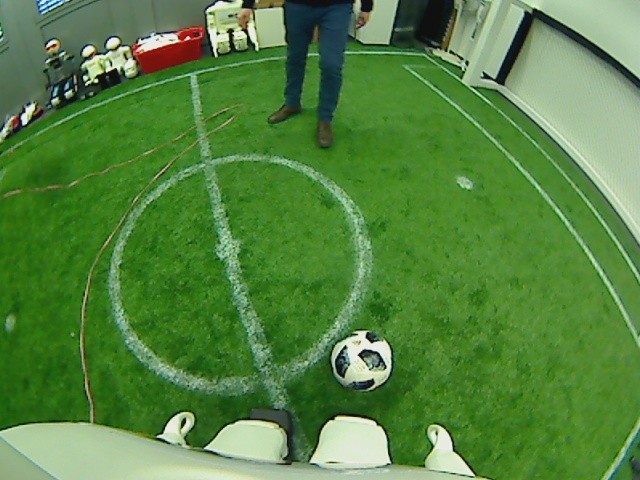ball: (329, 325, 393, 394)
